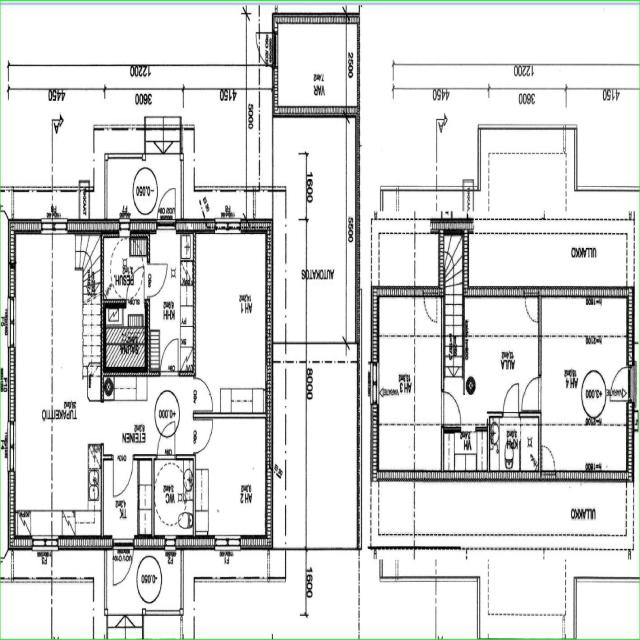door: (147, 256, 184, 329), (112, 536, 133, 588), (111, 454, 135, 499), (39, 207, 70, 240), (519, 373, 543, 415), (192, 414, 216, 454), (158, 332, 182, 372), (156, 185, 177, 228), (147, 259, 168, 302), (520, 292, 543, 331), (440, 388, 462, 428), (420, 290, 442, 330), (192, 374, 215, 412), (502, 378, 520, 421), (130, 266, 146, 306), (539, 438, 557, 473), (1, 187, 18, 220)
window: (213, 529, 242, 555), (34, 535, 59, 552), (163, 532, 177, 552)
zone: (9, 225, 103, 543), (539, 294, 631, 474), (193, 228, 269, 420), (373, 290, 443, 479), (456, 292, 540, 418), (194, 417, 269, 540), (276, 17, 355, 118), (106, 370, 190, 454), (147, 233, 195, 374), (102, 228, 149, 303), (488, 414, 540, 480), (153, 454, 195, 535), (103, 302, 145, 375), (443, 427, 487, 479)
